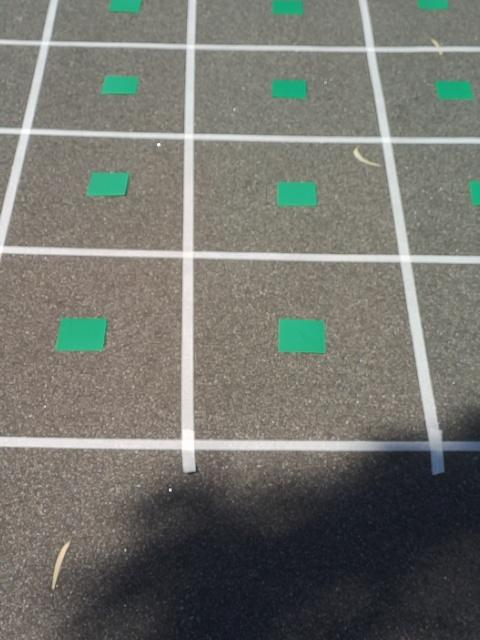weed: (53, 316, 109, 356), (276, 314, 329, 356), (84, 169, 132, 199), (277, 177, 318, 212), (436, 77, 476, 104), (100, 72, 139, 98), (270, 77, 308, 101), (270, 0, 305, 16), (107, 0, 143, 14), (417, 0, 452, 11), (468, 177, 480, 207)
